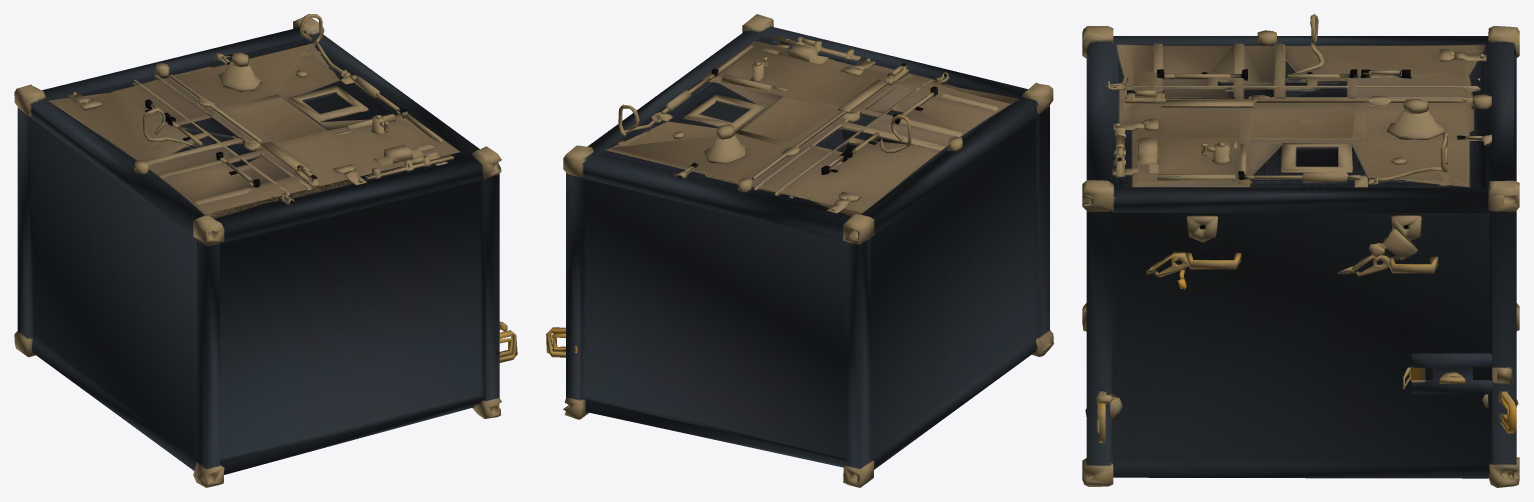
Rendered from sample-container.glb.
3 renders of one model, left to right at view 1: azimuth 30°, elevation 25°; view 2: azimuth 150°, elevation 25°; view 3: azimuth 270°, elevation 25°, orthographic. The views are drawn at different scales.
Visible parts, largest first — view 1: tripo_node_f030e6c3-2c4e-41be-88c7-5f8eebfaa837; view 2: tripo_node_f030e6c3-2c4e-41be-88c7-5f8eebfaa837; view 3: tripo_node_f030e6c3-2c4e-41be-88c7-5f8eebfaa837.
Boxes of the visible parts, x1,y1,x2,y2 form: tripo_node_f030e6c3-2c4e-41be-88c7-5f8eebfaa837: (14,14,517,487); tripo_node_f030e6c3-2c4e-41be-88c7-5f8eebfaa837: (546,14,1053,487); tripo_node_f030e6c3-2c4e-41be-88c7-5f8eebfaa837: (1082,14,1519,487).
Bounding box in the file's own units: 0.4266 × 0.3786 × 0.4467.
1 material, 1 textured.
